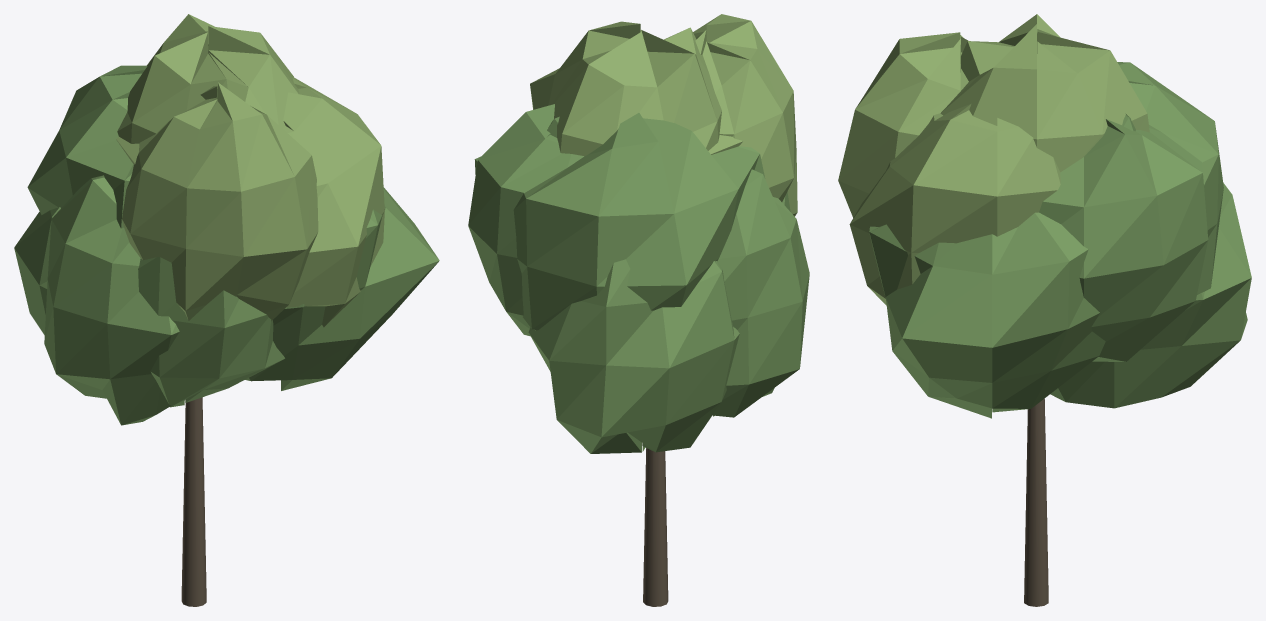
The model's file is oak_tree_variant_03.glb.
3 renders of one model, left to right at view 1: azimuth 30°, elevation 25°; view 2: azimuth 150°, elevation 25°; view 3: azimuth 270°, elevation 25°, orthographic. The views are drawn at different scales.
Visible parts, largest first — view 1: static_leaf_light, static_leaf_oak, static_bark; view 2: static_leaf_oak, static_leaf_light, static_bark; view 3: static_leaf_oak, static_leaf_light, static_bark.
Boxes of the visible parts, x1=… form: static_leaf_light: x1=116, y1=14, x2=384, y2=327; static_leaf_oak: x1=14, y1=65, x2=439, y2=425; static_bark: x1=181, y1=397, x2=206, y2=606; static_leaf_oak: x1=468, y1=104, x2=809, y2=453; static_leaf_light: x1=530, y1=14, x2=797, y2=216; static_bark: x1=643, y1=448, x2=668, y2=606; static_leaf_oak: x1=869, y1=62, x2=1251, y2=418; static_leaf_light: x1=838, y1=14, x2=1149, y2=305; static_bark: x1=1024, y1=398, x2=1048, y2=606.
Bounding box in the file's own units: 6.23 × 9.94 × 6.37.
